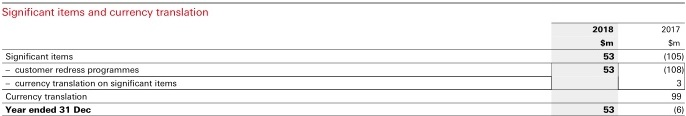column: (2, 3, 208, 115), (661, 1, 684, 116), (593, 3, 615, 116)
row: (1, 7, 686, 19), (1, 65, 685, 74), (1, 80, 686, 88), (1, 105, 686, 113), (2, 24, 686, 32), (1, 52, 685, 60), (7, 39, 686, 47), (1, 93, 686, 100)
